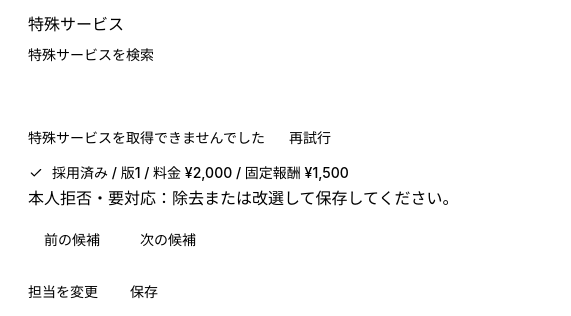
Test: 取得失敗と権限不足を空の候補と区別する
Expected: the text "特殊サービスを取得できませんでした" is shown, 28,128 -> 265,148
Click the button "再試行" at {"x": 310, "y": 138}, box 277,122 -> 343,154
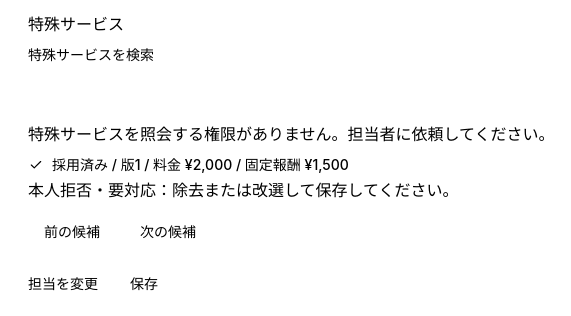
Expected: the text "特殊サービスを照会する権限がありません。担当者に依頼してください。" is shown, 28,124 -> 555,144
